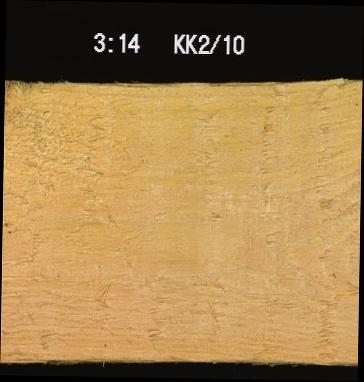small_knot: (2, 221, 19, 235)
